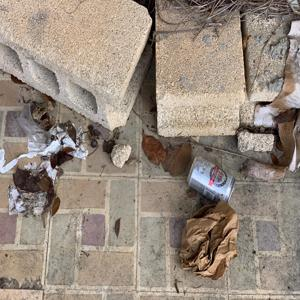metal: (185, 158, 241, 204)
paper: (177, 195, 247, 279)
